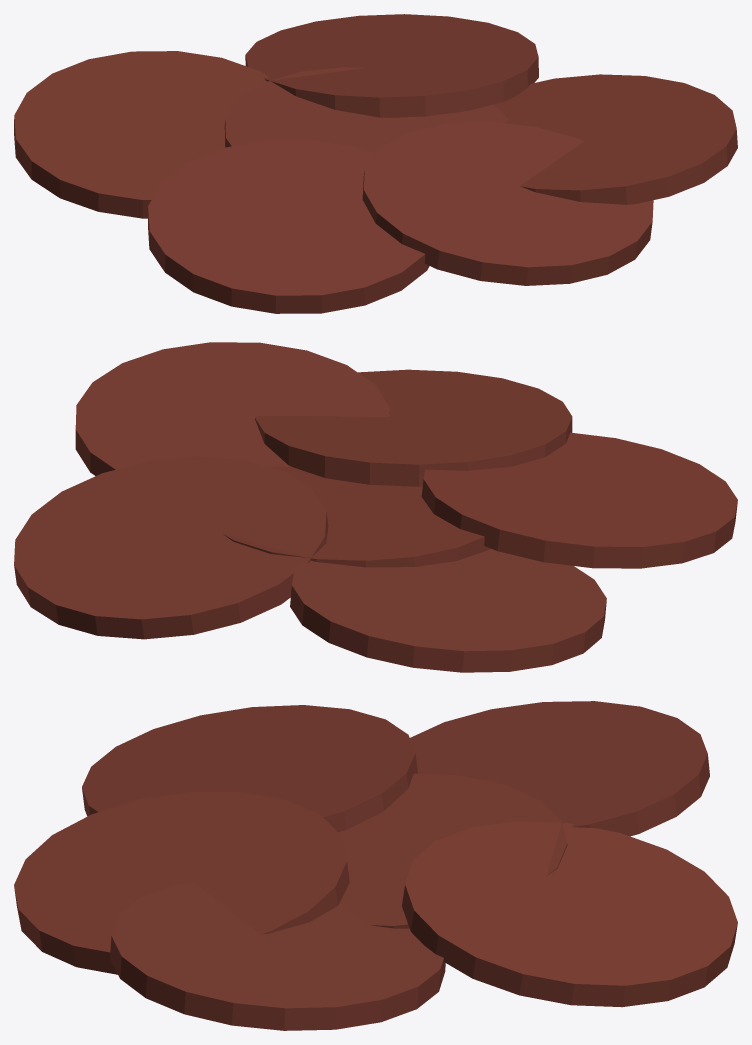
File: PepperoniChopped.glb
The picture shows the model from 3 angles, top to bottom: view 1: azimuth 30°, elevation 25°; view 2: azimuth 150°, elevation 25°; view 3: azimuth 270°, elevation 25°; orthographic projection. The views are drawn at different scales.
Parts seen in each view (by area): view 1: Cylinder.041; view 2: Cylinder.041; view 3: Cylinder.041.
Part boxes in pixels (bbox=[...]): Cylinder.041: bbox=[14, 14, 737, 313]; Cylinder.041: bbox=[14, 342, 737, 672]; Cylinder.041: bbox=[14, 701, 737, 1030].
Bounding box in the file's own units: 0.6598 × 0.0651 × 0.635.
